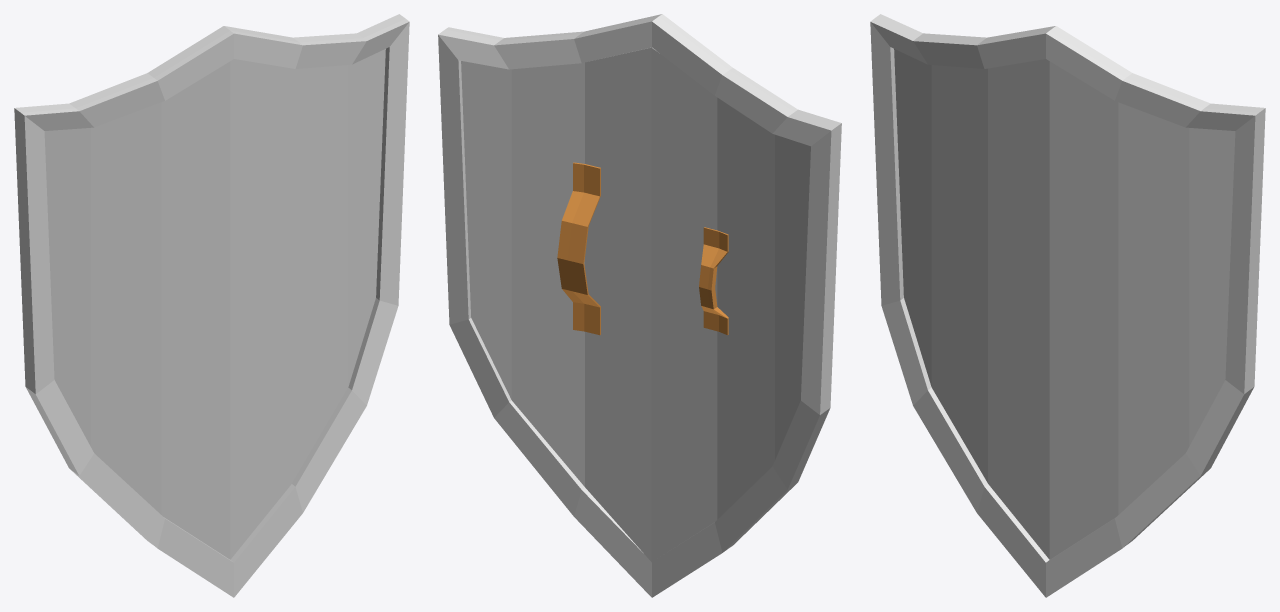
File: Heater_Shield.glb
3 renders of one model, left to right at view 1: azimuth 30°, elevation 25°; view 2: azimuth 150°, elevation 25°; view 3: azimuth 330°, elevation 25°, orthographic. The views are drawn at different scales.
Visible parts, largest first — view 1: Plane; view 2: Plane; view 3: Plane.
Part boxes in pixels (x1=…): Plane: x1=14, y1=14, x2=409, y2=597; Plane: x1=438, y1=14, x2=841, y2=597; Plane: x1=870, y1=14, x2=1265, y2=597.
Bounding box in the file's own units: 4.03 × 5.65 × 0.5085.
